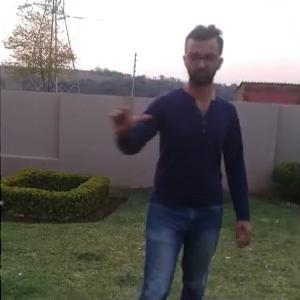land_hand: (106, 81, 154, 138)
